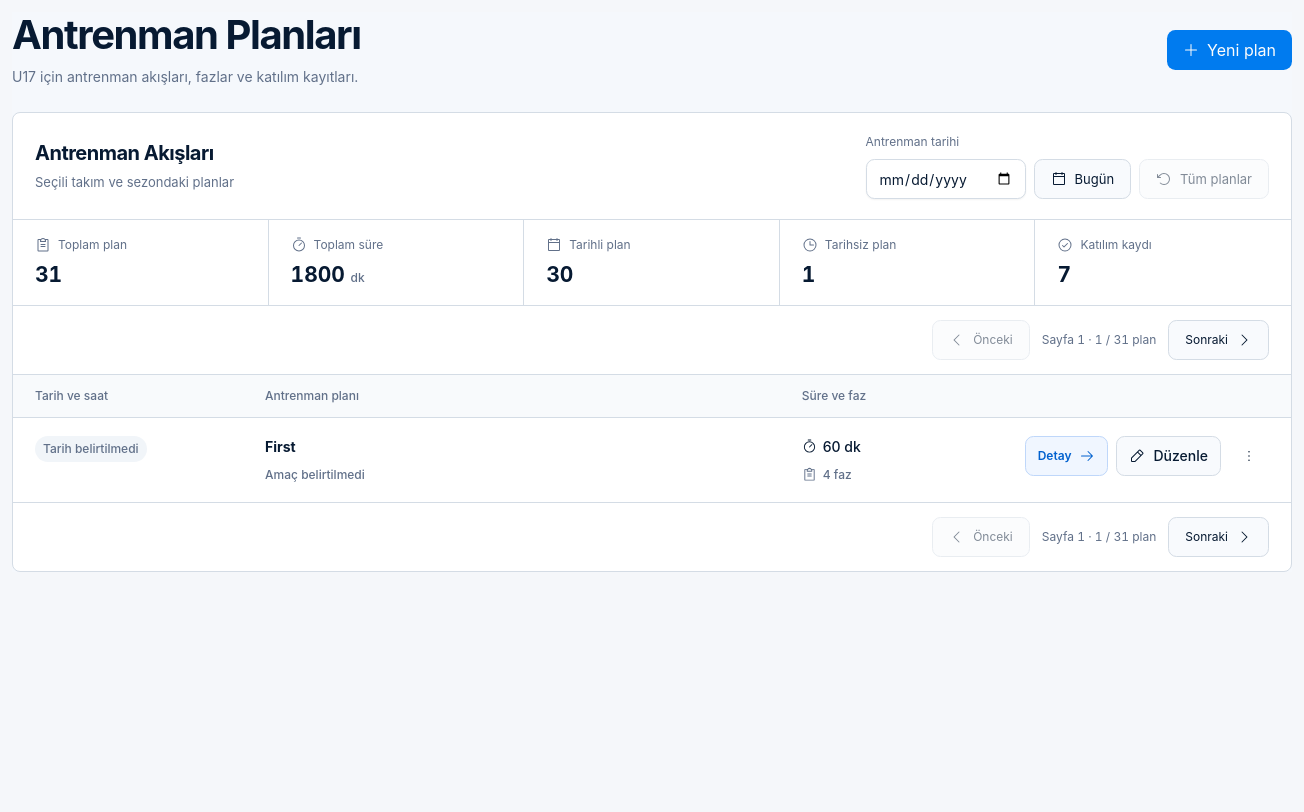
independent training catalog › shows failure instead of empty data, permits previous-page recovery and retry
Check: the text "First" is shown, box [265,438,296,455]
Click the 1st button "Sonraki" at (1219, 340), box [1168,320,1269,360]
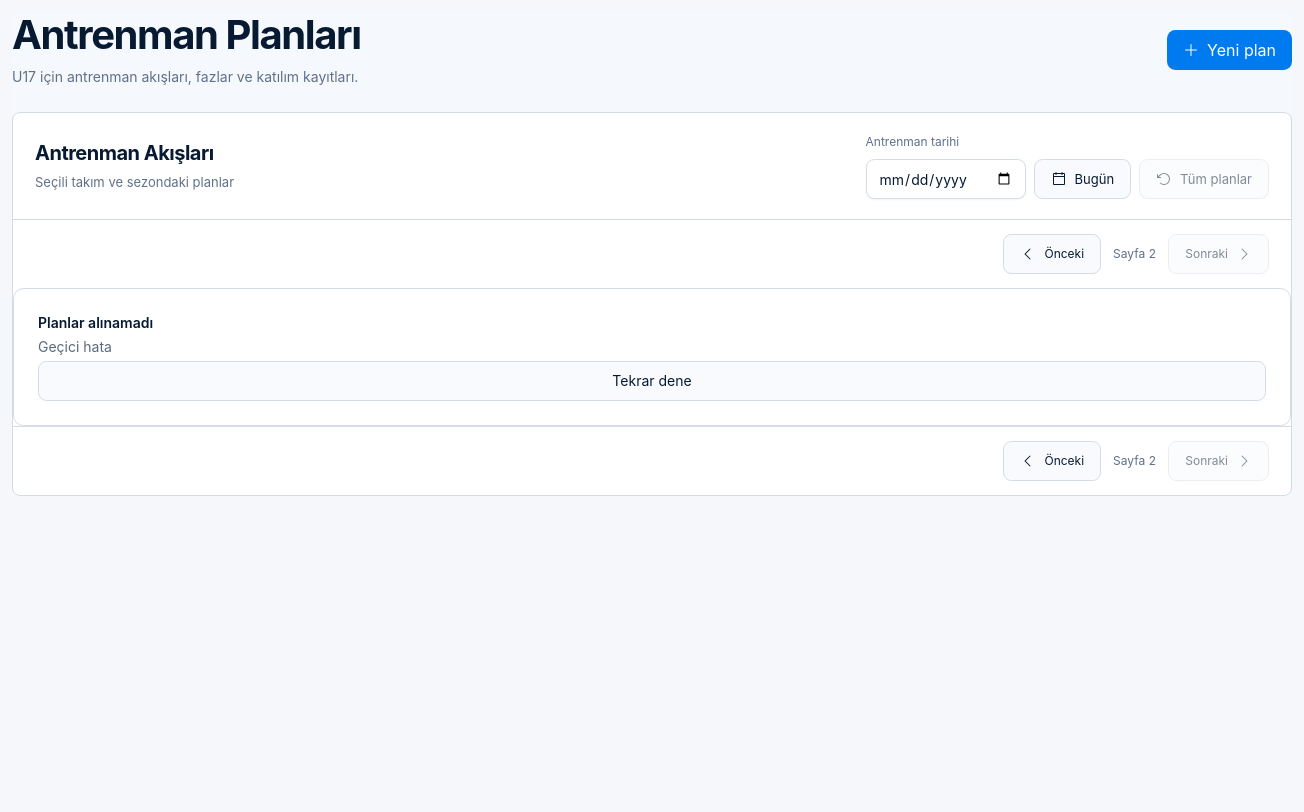
Check: the message "Planlar alınamadı Geçici hata Tekrar dene" is shown, box [13,288,1291,426]
Check: the button with aria-label "Önceki sayfa" is enabled, box [1004,234,1101,274]
Click the button "Tekrar dene" at (652, 381), box [38,361,1266,401]
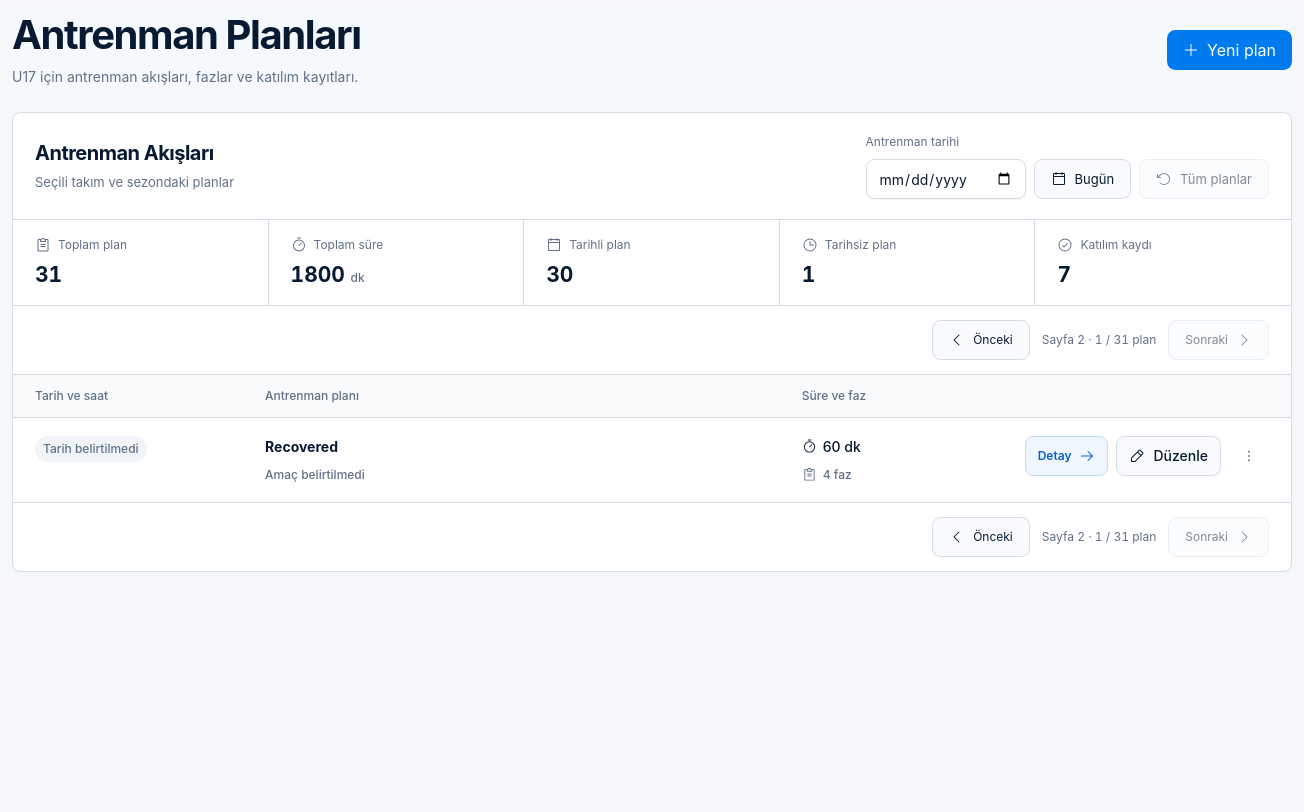
Check: the text "Recovered" is shown, box [265,438,338,455]
